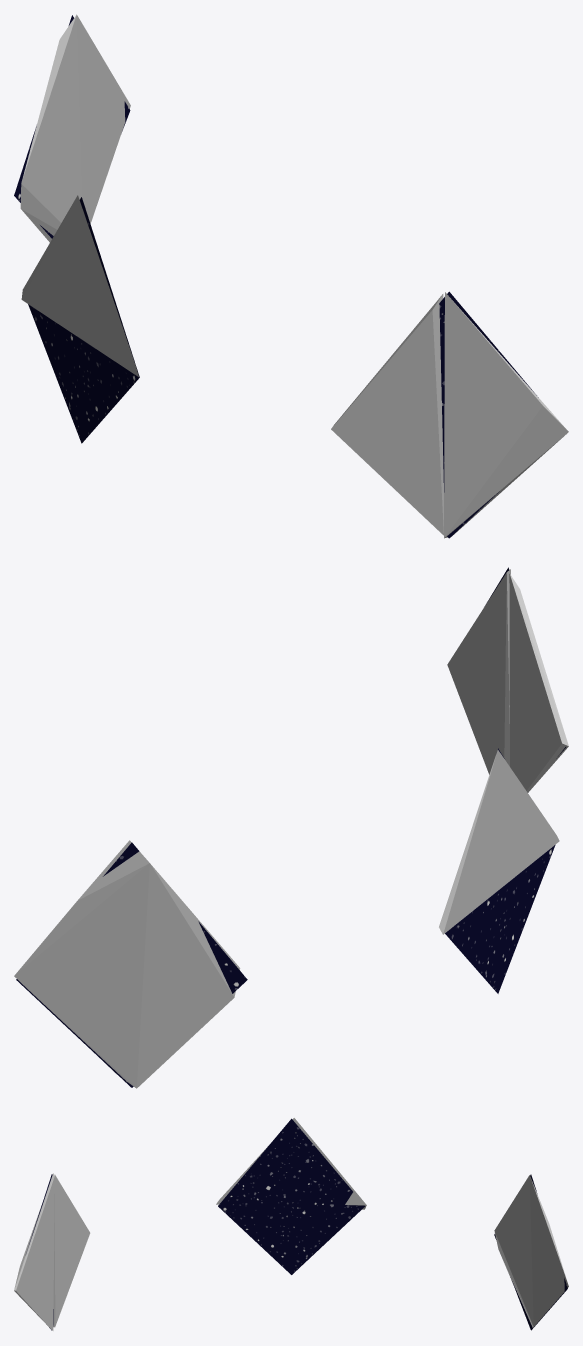
Rendered from SM_Bld_Window_Box_01_Glass_02.fbx.
3 views of the same model, one above another, from view 1: azimuth 30°, elevation 25°; view 2: azimuth 150°, elevation 25°; view 3: azimuth 270°, elevation 25° (orthographic). The views are drawn at different scales.
Visible parts, largest first — view 1: SM_Bld_Window_Box_01_Glass_02_ConvexHulls, SM_Bld_Window_Box_01_Glass_02; view 2: SM_Bld_Window_Box_01_Glass_02_ConvexHulls, SM_Bld_Window_Box_01_Glass_02; view 3: SM_Bld_Window_Box_01_Glass_02_ConvexHulls, SM_Bld_Window_Box_01_Glass_02.
Boxes of the visible parts, box(x1,y1,x2,y2) form: SM_Bld_Window_Box_01_Glass_02_ConvexHulls: box(20, 14, 568, 538); SM_Bld_Window_Box_01_Glass_02: box(14, 15, 538, 538); SM_Bld_Window_Box_01_Glass_02_ConvexHulls: box(14, 569, 568, 1088); SM_Bld_Window_Box_01_Glass_02: box(16, 567, 566, 1087); SM_Bld_Window_Box_01_Glass_02_ConvexHulls: box(14, 1118, 568, 1330); SM_Bld_Window_Box_01_Glass_02: box(26, 1118, 567, 1330).
Bounding box in the file's own units: 73.26 × 205 × 64.11.
2 materials, 1 textured.
